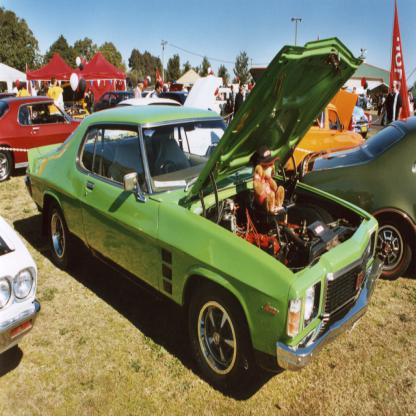Car: (26, 34, 383, 388), (302, 103, 411, 281), (91, 76, 252, 152), (288, 88, 362, 175), (0, 92, 74, 178), (0, 208, 41, 355)
